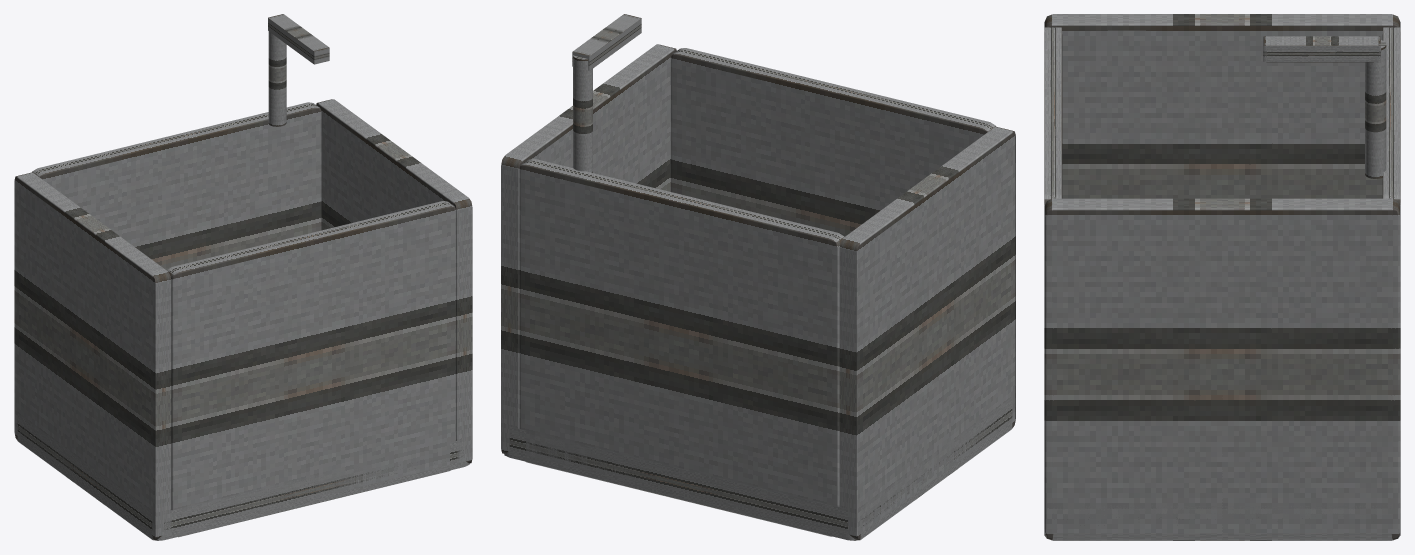
The model's file is deep-sink.glb.
3 views of the same model, side by side, from view 1: azimuth 30°, elevation 25°; view 2: azimuth 150°, elevation 25°; view 3: azimuth 270°, elevation 25° (orthographic). The views are drawn at different scales.
Visible parts, largest first — view 1: edge (×2), side (×2), bottom, spout-post, spout; view 2: edge (×2), side (×2), bottom, spout-post, spout; view 3: side (×2), edge (×2), bottom, spout, spout-post.
Part boxes in pixels (x1,y1,x2,y2): edge (×2): (32,102,456,537); side (×2): (14,99,472,540); bottom: (17,414,469,540); spout-post: (268,31,286,126); spout: (268,14,329,64); edge (×2): (518,48,996,536); side (×2): (501,44,1015,540); bottom: (504,398,1012,540); spout-post: (573,55,592,172); spout: (572,14,641,70); side (×2): (1044,14,1400,540); edge (×2): (1044,27,1400,206); bottom: (1044,505,1400,540); spout: (1263,36,1380,62); spout-post: (1365,40,1386,178).
Bounding box in the file's own units: 0.8 × 0.8864 × 0.62.
1 material, 1 textured.
